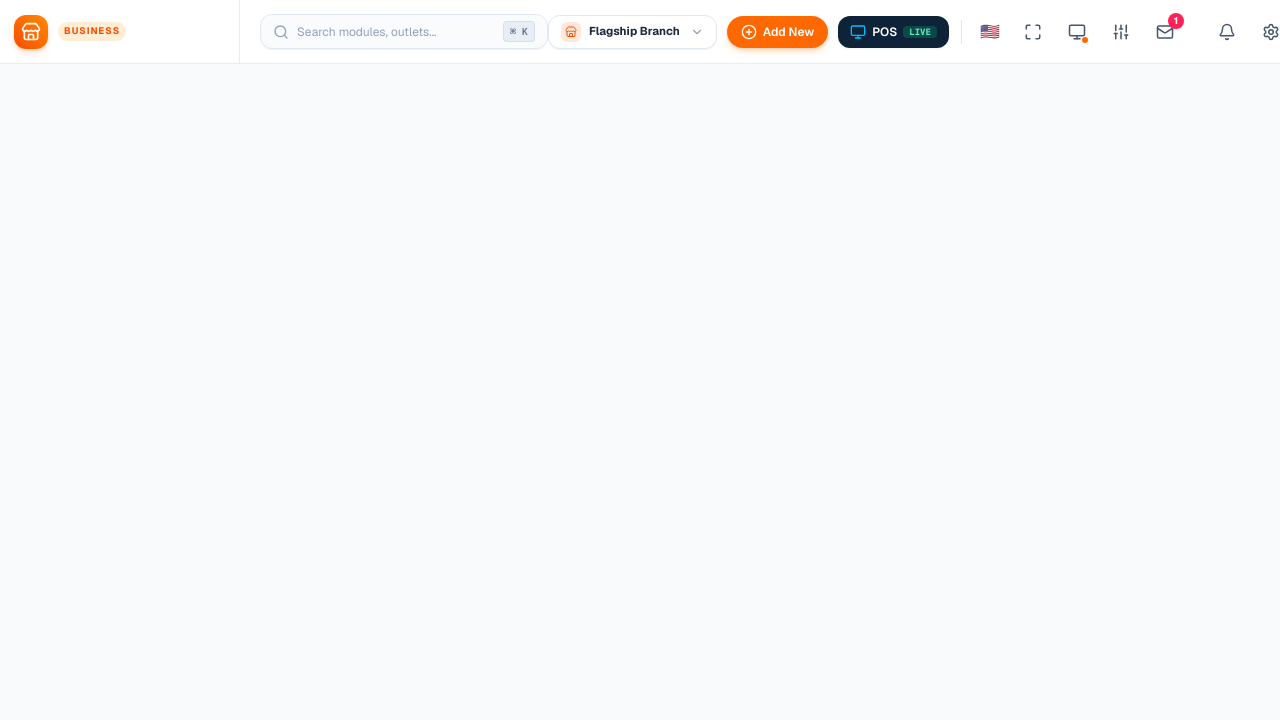
it: BusinessNavbar Component › toggles Add New menu and displays retail quick actions
What coordinates should you click on to do the following:
click the button "Add New"
I would click on:
 (778, 32)
Its box is 727,16 -> 828,48.
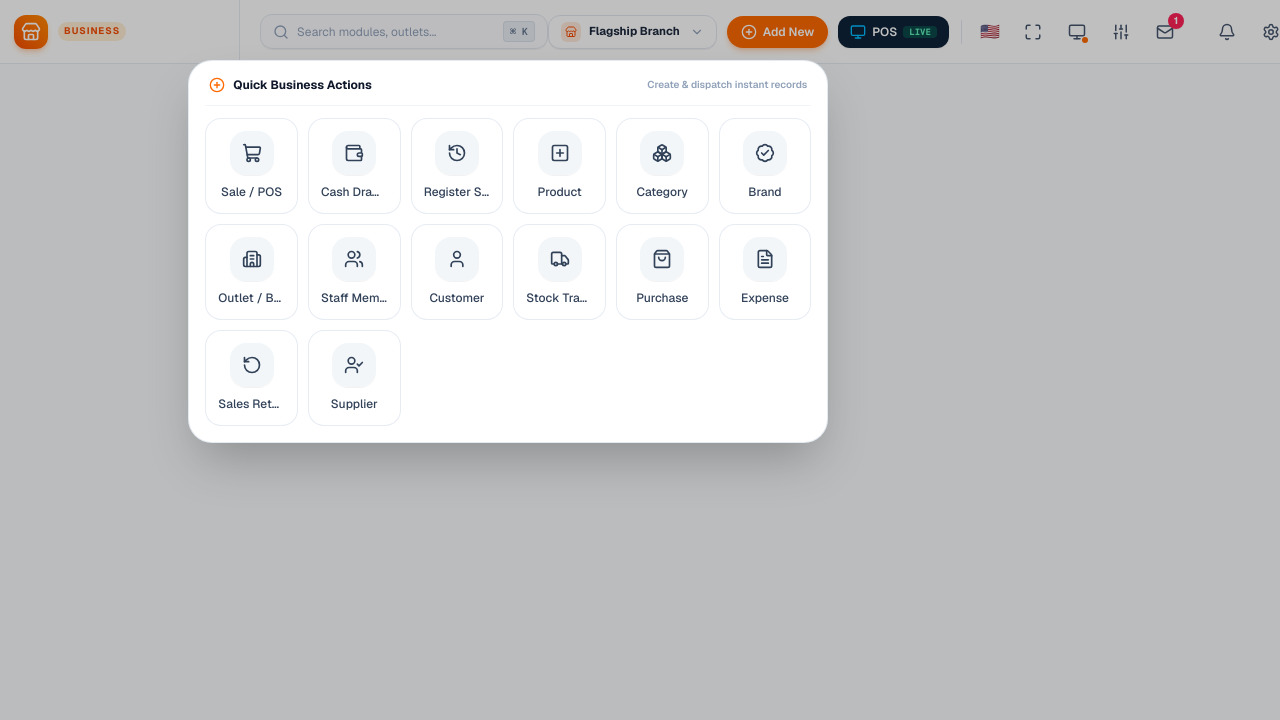
Check: the text "Quick Business Actions" is shown, box 233,76 -> 372,92
Check: the text "Sale / POS" is shown, box 221,182 -> 282,200
Check: the text "Register Shift" is shown, box 424,182 -> 490,200
